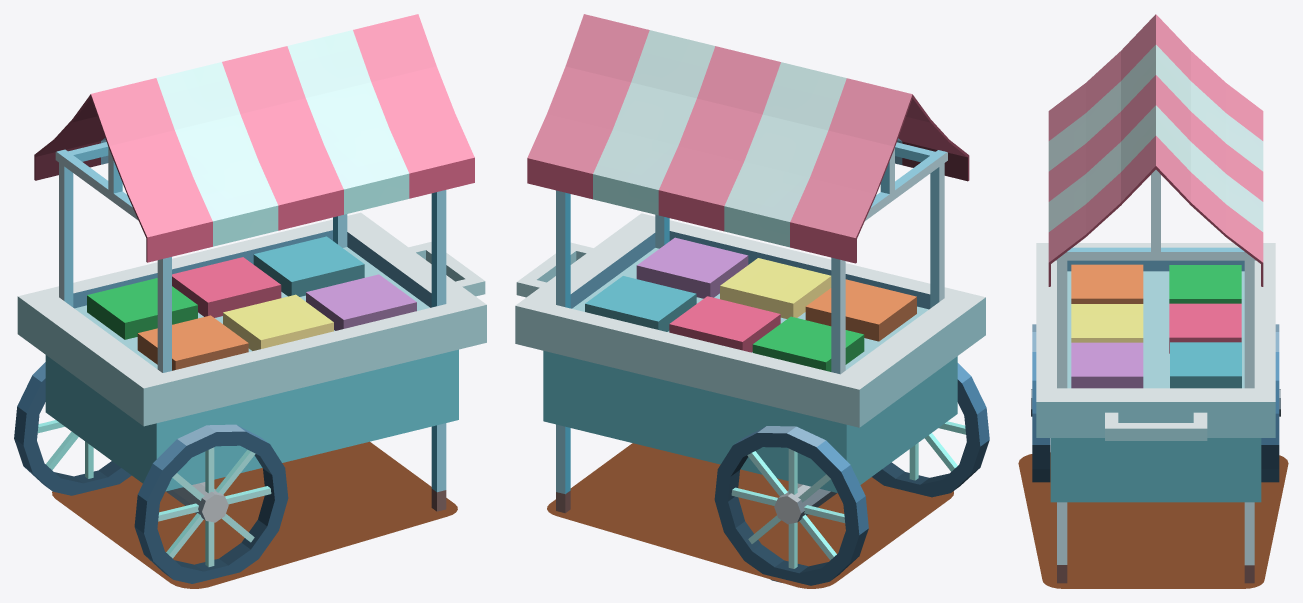
File: barrier_010.fbx
3 renders of one model, left to right at view 1: azimuth 30°, elevation 25°; view 2: azimuth 150°, elevation 25°; view 3: azimuth 270°, elevation 25°, orthographic. The views are drawn at different scales.
Parts seen in each view (by area): view 1: barrier010_icecream_cart1; view 2: barrier010_icecream_cart1; view 3: barrier010_icecream_cart1.
Part boxes in pixels (x1,y1,x2,y2): barrier010_icecream_cart1: (14, 14, 486, 588); barrier010_icecream_cart1: (515, 14, 989, 588); barrier010_icecream_cart1: (1018, 14, 1288, 588).
Size of the model in its own units: 265 by 304 by 172.
